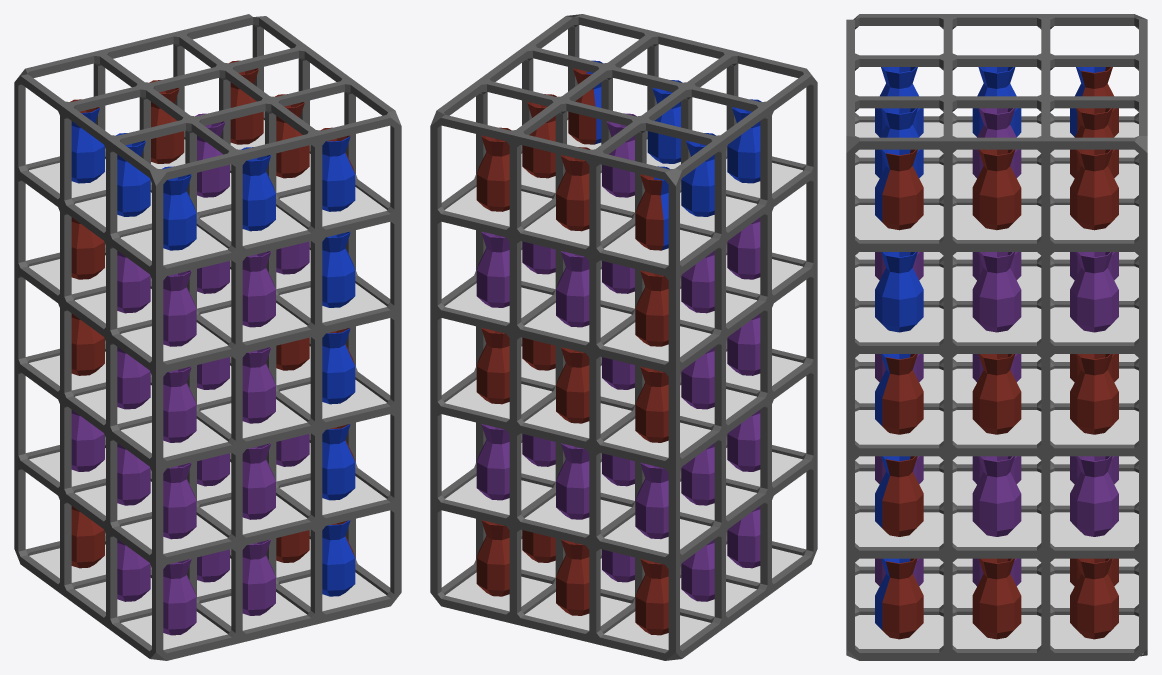
The model's file is Sculpture.glb.
3 renders of one model, left to right at view 1: azimuth 30°, elevation 25°; view 2: azimuth 150°, elevation 25°; view 3: azimuth 270°, elevation 25°, orthographic. The views are drawn at different scales.
Parts seen in each view (by area): view 1: Cube; view 2: Cube; view 3: Cube.
Part boxes in pixels (box(x1,y1,x2,y2)): Cube: box(14, 14, 401, 660); Cube: box(430, 14, 817, 660); Cube: box(846, 14, 1147, 660).
Bounding box in the file's own units: 3.47 × 6.59 × 3.47.
